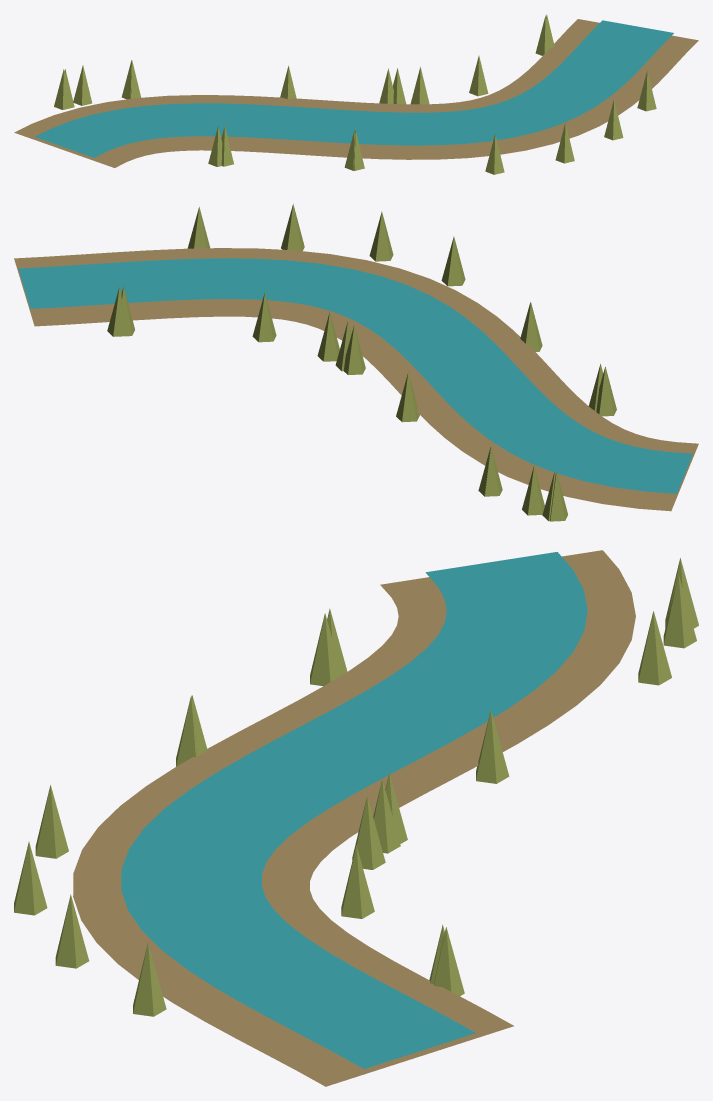
The model's file is FEATURE_FLOODPLAINS_GRASSLAND_v01.fbx.
3 renders of one model, top to bottom at view 1: azimuth 30°, elevation 25°; view 2: azimuth 150°, elevation 25°; view 3: azimuth 270°, elevation 25°, orthographic. The views are drawn at different scales.
Visible parts, largest first — view 1: River_channel.004, Alluvial_banks.004, Riparian_grass.080, Riparian_grass.084, Riparian_grass.092, Riparian_grass.093, Riparian_grass.081, Riparian_grass.089, Riparian_grass.088, Riparian_grass.096, Riparian_grass.097, Riparian_grass.091 (+4 smaller); view 2: River_channel.004, Alluvial_banks.004, Riparian_grass.080, Riparian_grass.089, Riparian_grass.093, Riparian_grass.092, Riparian_grass.090, Riparian_grass.098, Riparian_grass.096, Riparian_grass.091, Riparian_grass.081, Riparian_grass.094 (+4 smaller); view 3: River_channel.004, Alluvial_banks.004, Riparian_grass.081, Riparian_grass.085, Riparian_grass.092, Riparian_grass.089, Riparian_grass.084, Riparian_grass.093, Riparian_grass.080, Riparian_grass.090, Riparian_grass.083, Riparian_grass.096 (+2 smaller).
Part boxes in pixels (x1,y1,x2,y2): River_channel.004: (35, 20, 673, 157); Alluvial_banks.004: (14, 19, 698, 167); Riparian_grass.080: (555, 122, 574, 163); Riparian_grass.084: (637, 70, 656, 111); Riparian_grass.092: (73, 65, 92, 105); Riparian_grass.093: (469, 55, 488, 96); Riparian_grass.081: (604, 99, 623, 140); Riparian_grass.089: (485, 134, 504, 174); Riparian_grass.088: (54, 69, 72, 109); Riparian_grass.096: (410, 66, 429, 104); Riparian_grass.097: (535, 15, 553, 55); Riparian_grass.091: (208, 126, 222, 166); River_channel.004: (18, 258, 692, 493); Alluvial_banks.004: (14, 248, 698, 511); Riparian_grass.080: (369, 211, 393, 261); Riparian_grass.089: (441, 236, 465, 286); Riparian_grass.093: (252, 292, 276, 342); Riparian_grass.092: (522, 465, 544, 515); Riparian_grass.090: (396, 372, 419, 422); Riparian_grass.098: (343, 325, 365, 374); Riparian_grass.096: (317, 311, 339, 361); Riparian_grass.091: (596, 366, 616, 416); Riparian_grass.081: (281, 204, 304, 251); Riparian_grass.094: (521, 303, 542, 351); River_channel.004: (121, 552, 587, 1068); Alluvial_banks.004: (73, 550, 635, 1086); Riparian_grass.081: (55, 894, 89, 968); Riparian_grass.085: (638, 611, 671, 685); Riparian_grass.092: (663, 574, 696, 648); Riparian_grass.089: (35, 785, 68, 858); Riparian_grass.084: (133, 942, 166, 1016); Riparian_grass.093: (341, 845, 374, 918); Riparian_grass.080: (14, 841, 47, 915); Riparian_grass.090: (476, 710, 509, 783); Riparian_grass.083: (310, 613, 342, 686); Riparian_grass.096: (352, 796, 385, 869).
Bounding box in the file's own units: 171 × 10 × 92.34.
